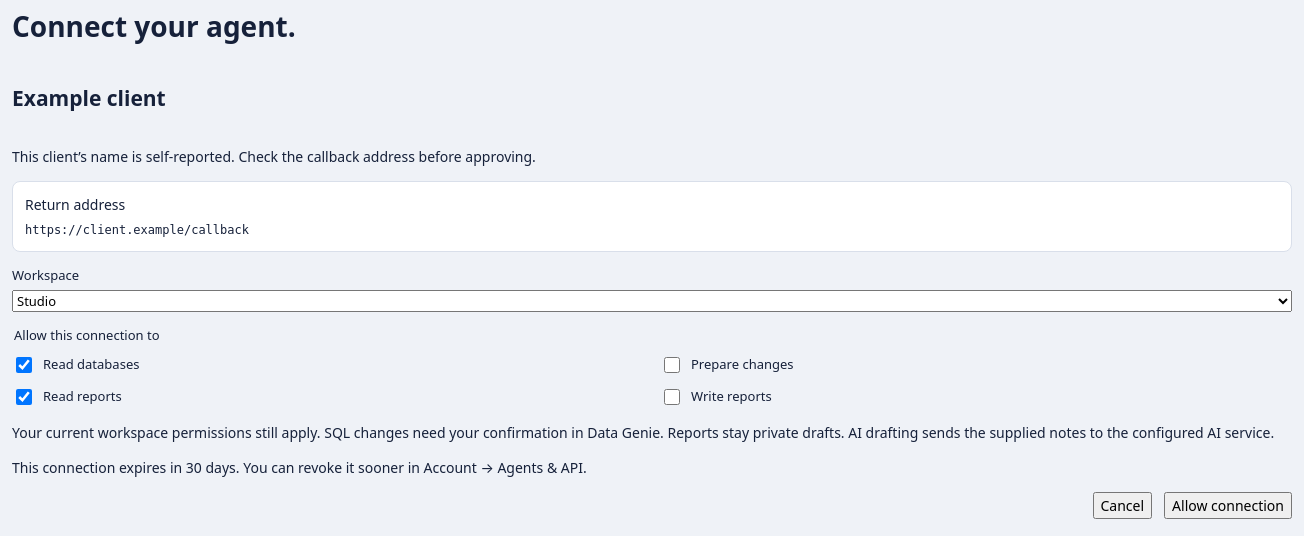
Test: shows the callback and requires explicit permission before any consent request
The image size is (1304, 536).
Expected: the text "https://client.example/callback" is shown, [25,223,249,237]
Expected: the checkbox labelled "Write reports" is not checked, [664,389,680,405]
Click the checkbox labelled "Read databases".
click(24, 365)  # box [16,357,32,373]
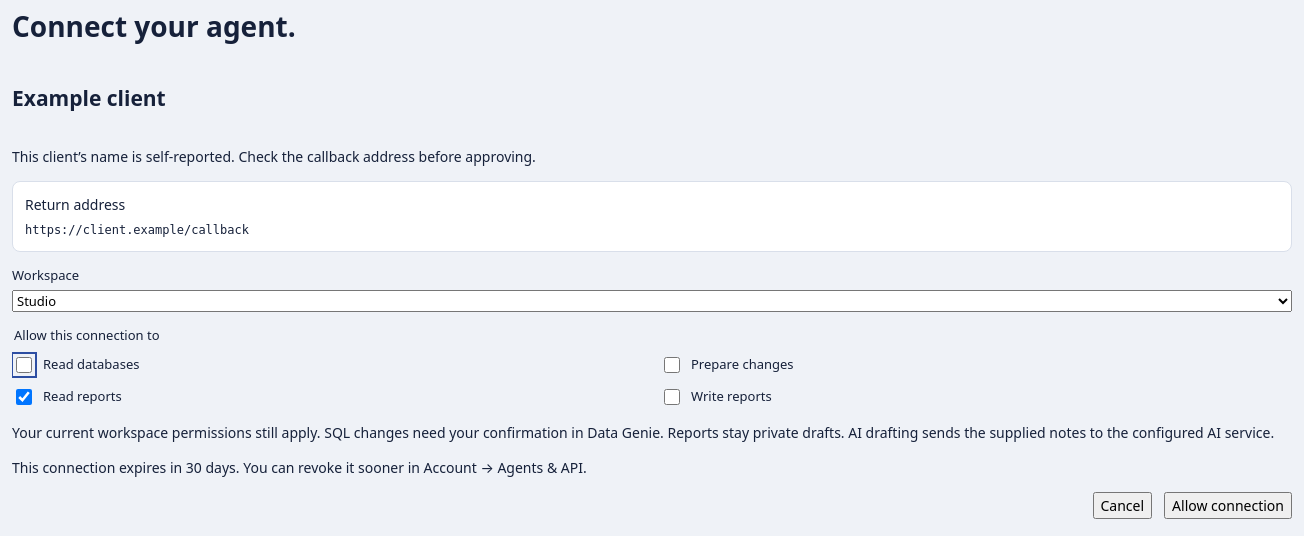
Click the checkbox labelled "Read reports".
click(24, 397)  # box [16,389,32,405]
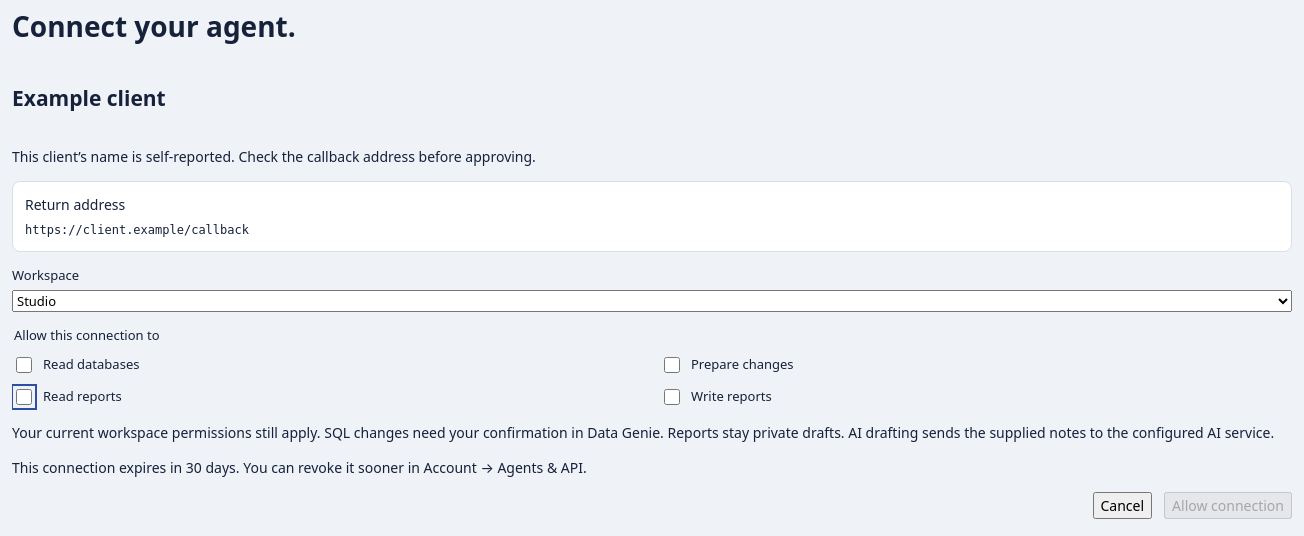
Now the button "Allow connection" is disabled, box [1164,492,1292,519]
Select "Reports only" in the dropdown labelled "Workspace" at (652, 301), box [12,290,1292,312]
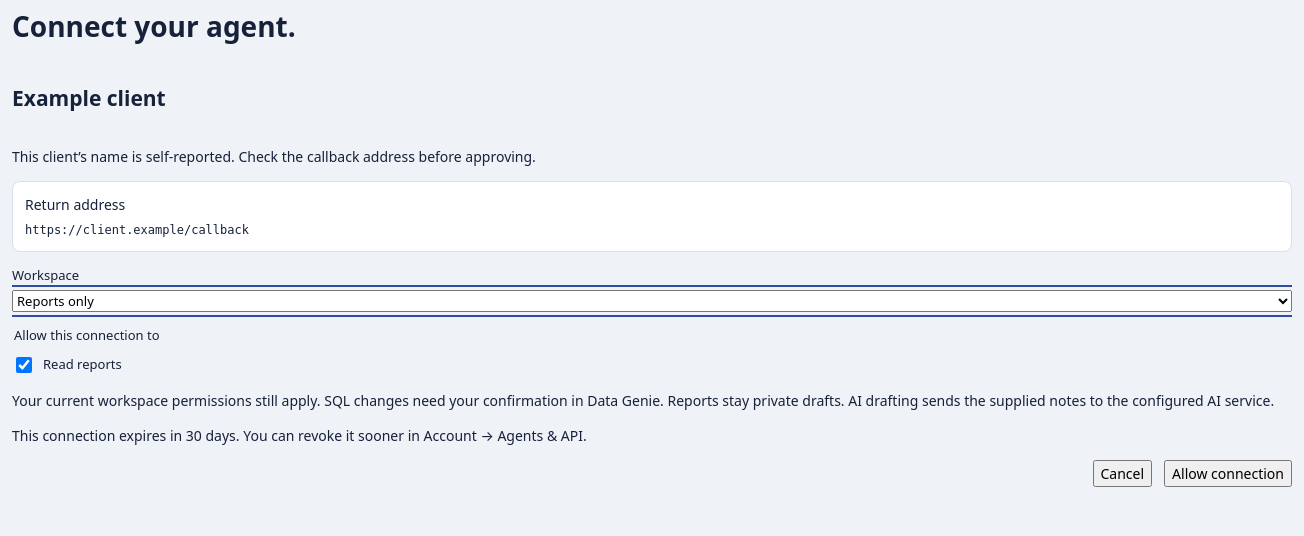
Now the checkbox labelled "Read reports" is checked, box [16,357,32,373]
Now the number of checkboxes is 1, box [16,357,32,373]
